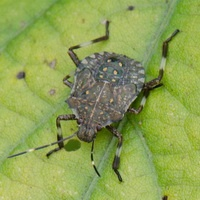insect: (7, 20, 179, 181)
